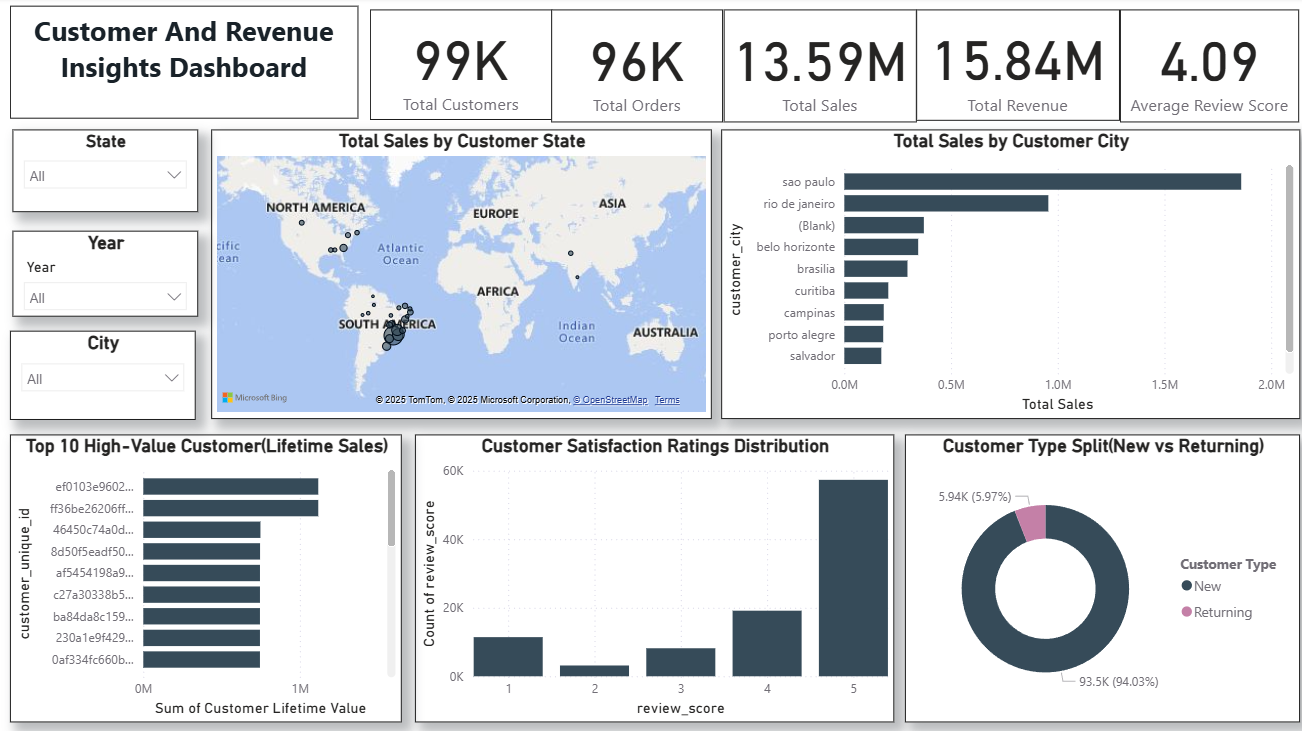

Layout of this report page (visuals, bound fields, positions):
{"tool":"powerbi","page":{"name":"Customer and Revenue Dashboard","canvas":[1280,720],"ordinal":1},"visuals":[{"type":"textbox","box":[10.3,8.8,340.7,110.6],"z":0},{"type":"map","title":"Total Sales by Customer State","fields":{"Category":["olist_customers_dataset.customer_state"],"Size":["olist_order_items_dataset.Total Sales"]},"box":[206.5,129.8,489.7,283.2],"z":1000},{"type":"barChart","title":"Total Sales by Customer City","fields":{"Category":["olist_customers_dataset.customer_city"],"Y":["olist_order_items_dataset.Total Sales"]},"box":[705,129.8,566.4,283.2],"z":2000},{"type":"columnChart","title":"Customer Satisfaction Ratings Distribution","fields":{"Category":["olist_order_reviews_dataset.review_score"],"Y":["CountNonNull(olist_order_reviews_dataset.review_score)"]},"box":[405.6,427.7,469,281.7],"z":3000},{"type":"donutChart","title":"Customer Type Split(New vs Returning)","fields":{"Category":["olist_customers_dataset.Customer Type"],"Y":["CountNonNull(olist_customers_dataset.customer_unique_id)"]},"box":[885,427.7,386.4,281.7],"z":4000},{"type":"slicer","title":"State","fields":{"Values":["olist_customers_dataset.customer_state"]},"box":[11.8,129.8,181.4,81.1],"z":5000},{"type":"slicer","title":"Year","fields":{"Values":["olist_orders_dataset.Year"]},"box":[11.8,228.6,181.4,84.1],"z":6000},{"type":"clusteredBarChart","title":"Top 10 High-Value Customer(Lifetime Sales)","fields":{"Category":["olist_customers_dataset.customer_unique_id"],"Y":["Sum(olist_customers_dataset.Customer Lifetime Value)"]},"box":[10.3,427.7,383.5,281.7],"z":7000},{"type":"card","fields":{"Values":["olist_orders_dataset.Total Customers"]},"box":[361.4,11.8,178.5,107.7],"z":8000},{"type":"card","fields":{"Values":["olist_orders_dataset.Total Orders"]},"box":[539.8,11.8,168.1,110.6],"z":9000},{"type":"card","fields":{"Values":["olist_order_items_dataset.Total Sales"]},"box":[708,11.8,188.8,110.6],"z":10000},{"type":"card","fields":{"Values":["olist_customers_dataset.Average Review Score"]},"box":[1095.9,11.8,175.5,110.6],"z":11000},{"type":"card","fields":{"Values":["olist_order_items_dataset.Total Revenue"]},"box":[896.8,11.8,199.1,109.1],"z":12000},{"type":"slicer","title":"City","fields":{"Values":["olist_customers_dataset.customer_city"]},"box":[10.3,326,181.4,87],"z":13000}]}

Visuals, with their boxes in screenshot pixels (x1, y1, x2, y2), scaled from the page's 1280x720 canvas onto the 1302x731 screenshot:
textbox: bbox=[10, 9, 357, 121]
"Total Sales by Customer State" map: bbox=[210, 132, 708, 419]
"Total Sales by Customer City" barChart: bbox=[717, 132, 1293, 419]
"Customer Satisfaction Ratings Distribution" columnChart: bbox=[413, 434, 890, 720]
"Customer Type Split(New vs Returning)" donutChart: bbox=[900, 434, 1293, 720]
"State" slicer: bbox=[12, 132, 197, 214]
"Year" slicer: bbox=[12, 232, 197, 317]
"Top 10 High-Value Customer(Lifetime Sales)" clusteredBarChart: bbox=[10, 434, 401, 720]
card - olist_orders_dataset.Total Customers: bbox=[368, 12, 549, 121]
card - olist_orders_dataset.Total Orders: bbox=[549, 12, 720, 124]
card - olist_order_items_dataset.Total Sales: bbox=[720, 12, 912, 124]
card - olist_customers_dataset.Average Review Score: bbox=[1115, 12, 1293, 124]
card - olist_order_items_dataset.Total Revenue: bbox=[912, 12, 1115, 123]
"City" slicer: bbox=[10, 331, 195, 419]
